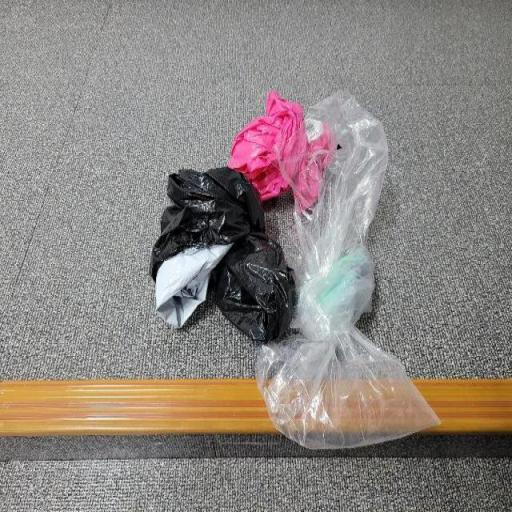plastic-bag: (249, 92, 444, 452), (146, 166, 292, 356), (228, 90, 332, 209)
